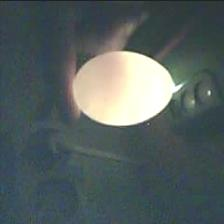infertile: (64, 49, 176, 129)
